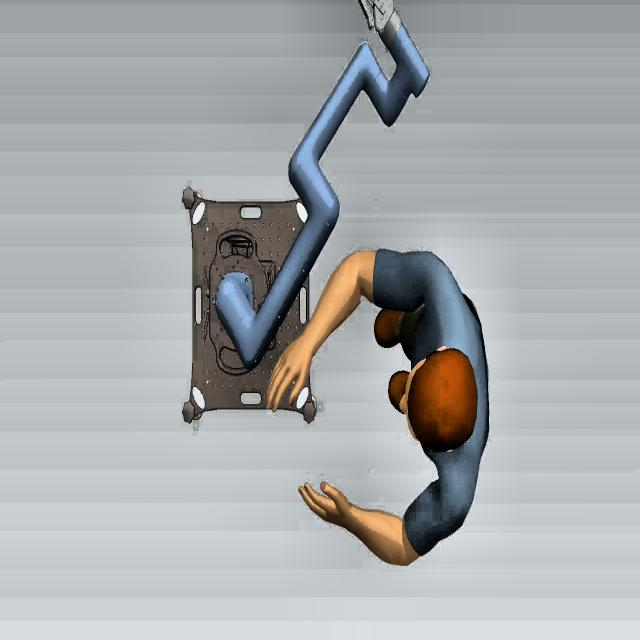robot: (208, 0, 430, 363)
